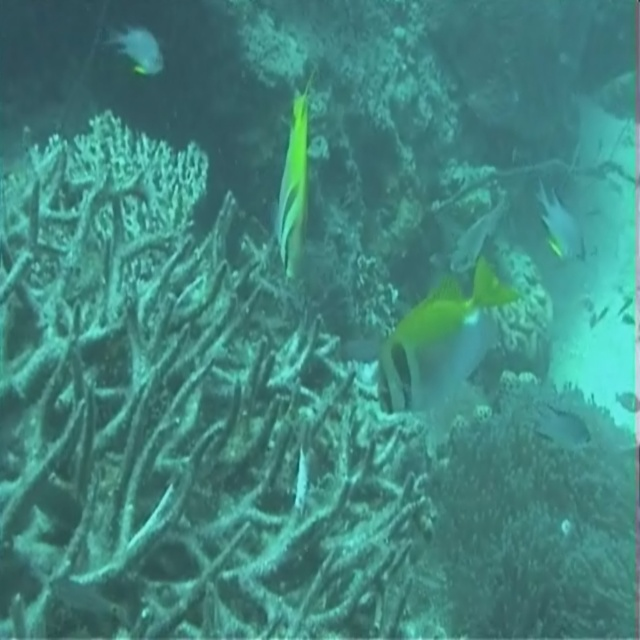Fish: (380, 251, 523, 405), (267, 71, 311, 280), (539, 181, 589, 260), (103, 23, 161, 73)
